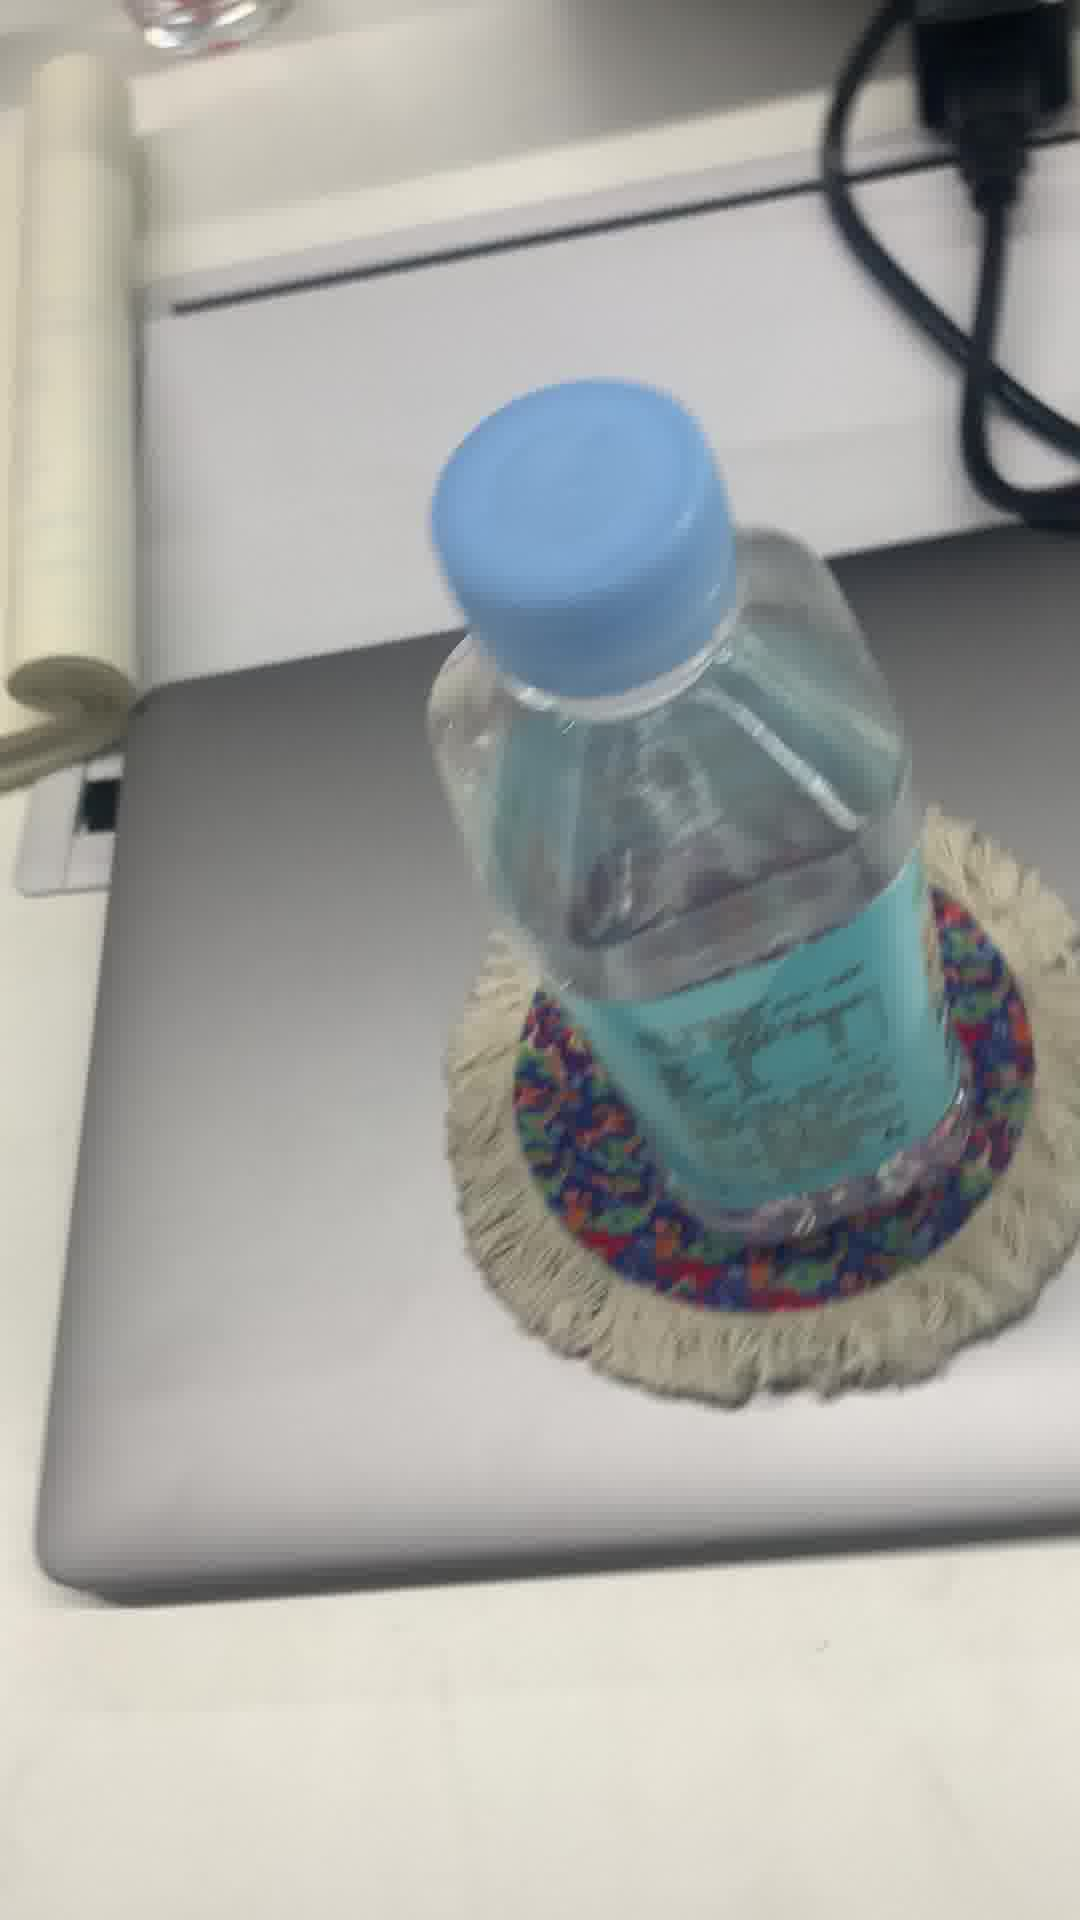水瓶: (400, 375, 984, 1253)
